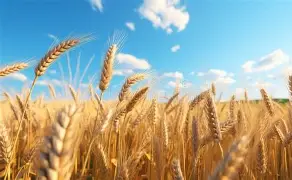crops: (0, 3, 283, 174)
